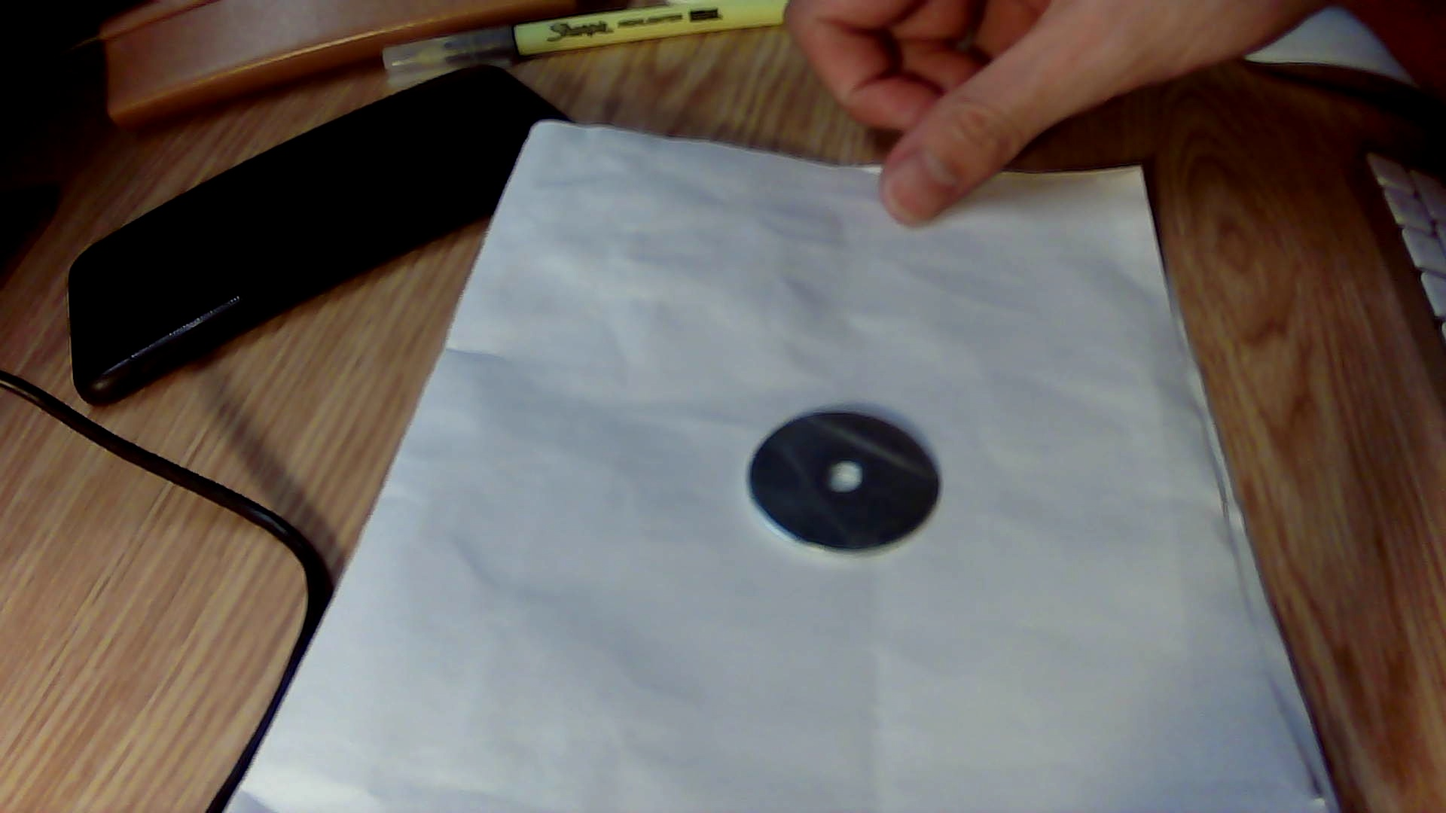DetectiveWashers: (775, 420, 936, 547)
